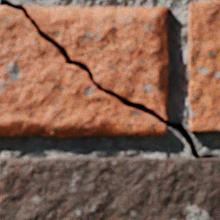brick: (0, 156, 219, 219), (188, 2, 219, 132)
broken_brick: (0, 7, 167, 136), (25, 6, 167, 119)
crack: (1, 0, 219, 158)
